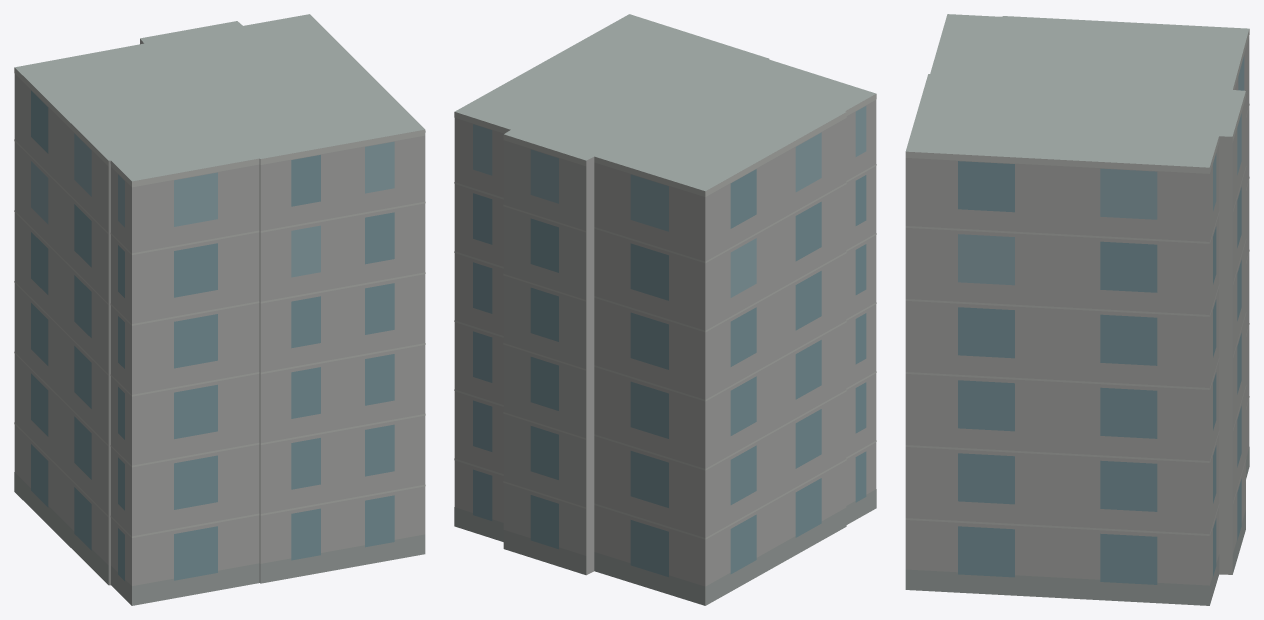
Rendered from survey-upis-32804052.glb.
3 views of the same model, side by side, from view 1: azimuth 30°, elevation 25°; view 2: azimuth 150°, elevation 25°; view 3: azimuth 270°, elevation 25° (orthographic). The views are drawn at different scales.
Parts seen in each view (by area): view 1: survey-upis-32804052.tmp; view 2: survey-upis-32804052.tmp; view 3: survey-upis-32804052.tmp.
Boxes of the visible parts, x1,y1,x2,y2 form: survey-upis-32804052.tmp: (14,14,425,605); survey-upis-32804052.tmp: (454,14,876,605); survey-upis-32804052.tmp: (905,14,1249,605).
Bounding box in the file's own units: 13 × 17.25 × 12.29.
